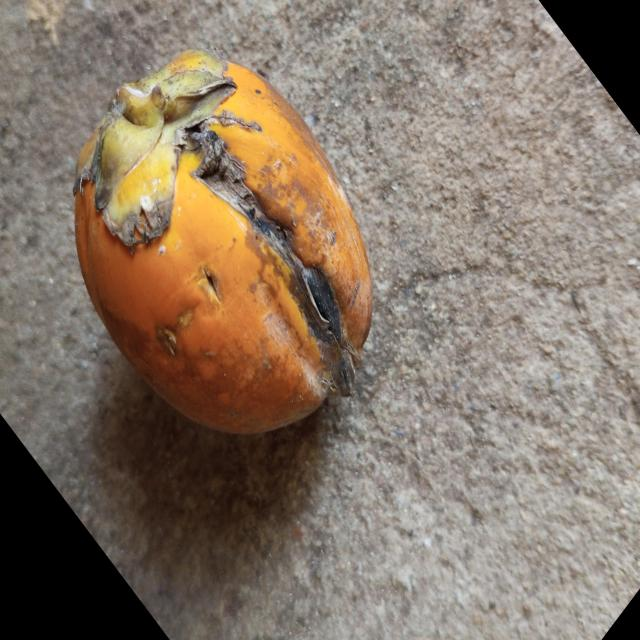damaged: (74, 50, 373, 433)
